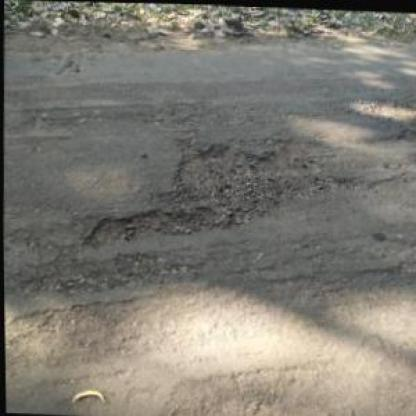pothole: (79, 126, 365, 259)
